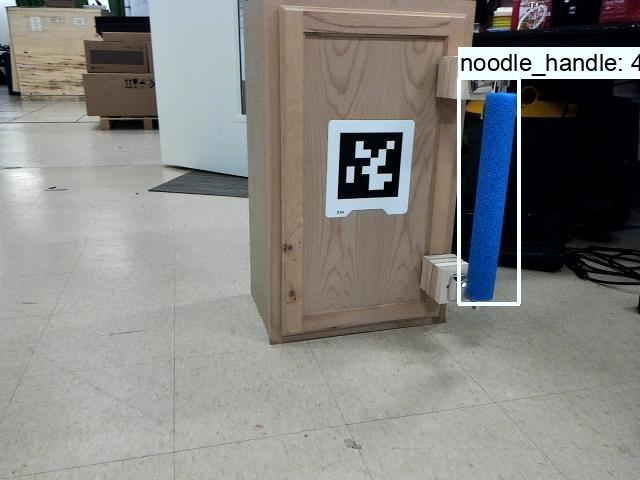noodle_handle: (454, 75, 521, 308)
